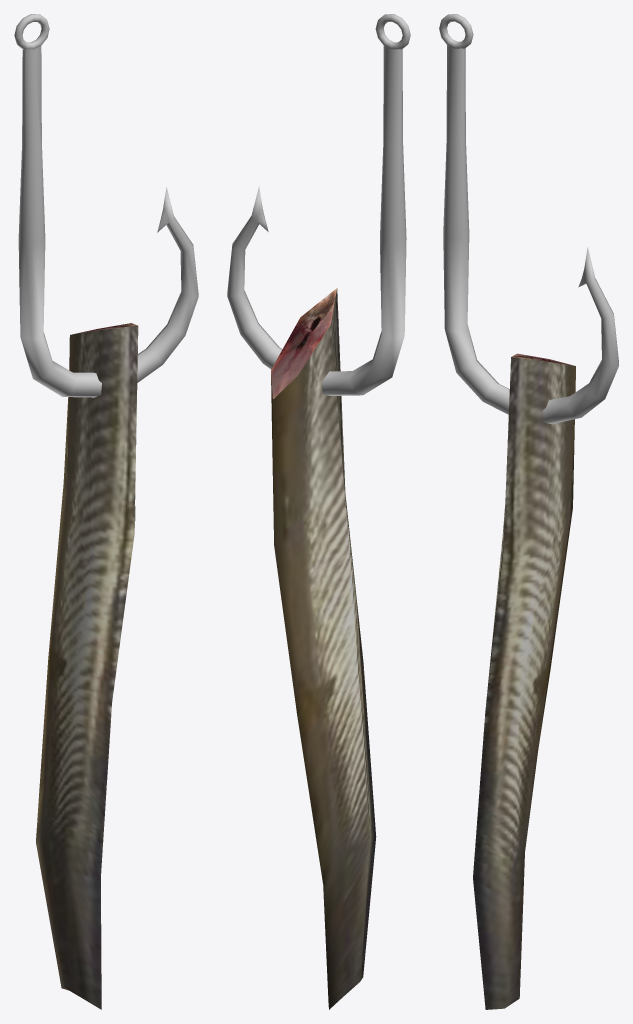
Rendered from Bait_Halfbeak.fbx.
3 renders of one model, left to right at view 1: azimuth 30°, elevation 25°; view 2: azimuth 150°, elevation 25°; view 3: azimuth 330°, elevation 25°, orthographic. The views are drawn at different scales.
Parts seen in each view (by area): view 1: Bait_HyporhamphusSajori; view 2: Bait_HyporhamphusSajori; view 3: Bait_HyporhamphusSajori.
Boxes of the visible parts, box(x1,y1,x2,y2) form: Bait_HyporhamphusSajori: box(14, 14, 198, 1009); Bait_HyporhamphusSajori: box(227, 14, 410, 1009); Bait_HyporhamphusSajori: box(439, 14, 618, 1009).
Bounding box in the file's own units: 0.2116 × 1.1 × 0.1421.
